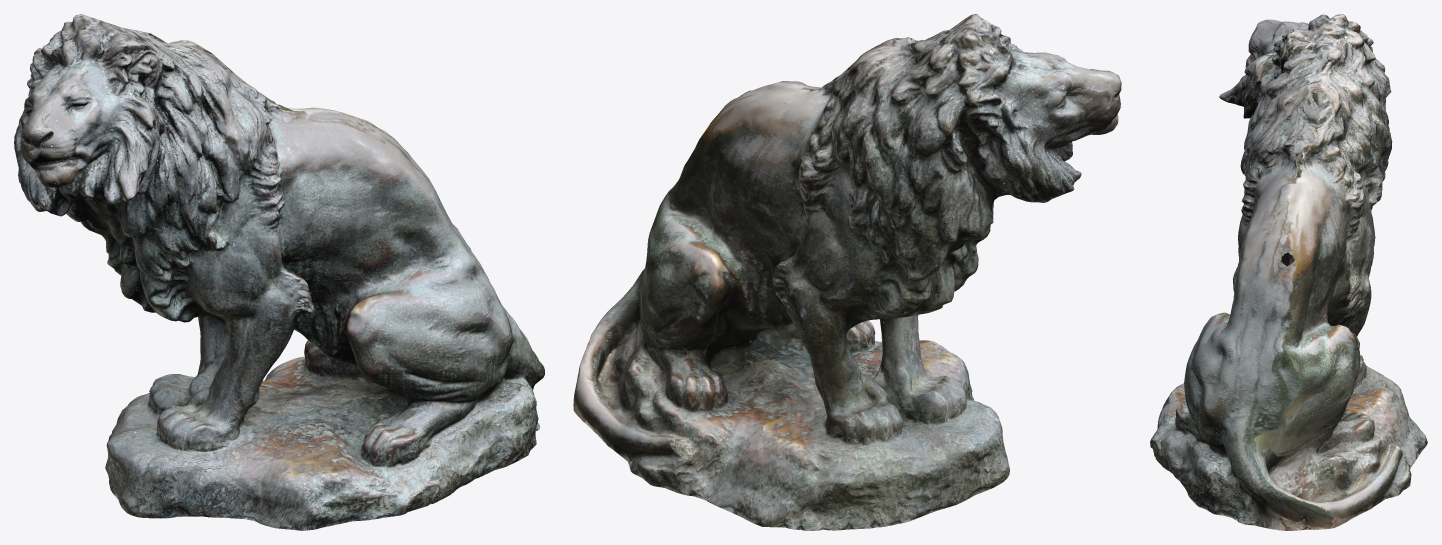
The model's file is Lion-exported.obj.
The picture shows the model from 3 angles, left to right: view 1: azimuth 30°, elevation 25°; view 2: azimuth 150°, elevation 25°; view 3: azimuth 270°, elevation 25°; orthographic projection. The views are drawn at different scales.
Bounding box in the file's own units: 20.89 × 18.73 × 12.69.
1 material, 1 textured.
